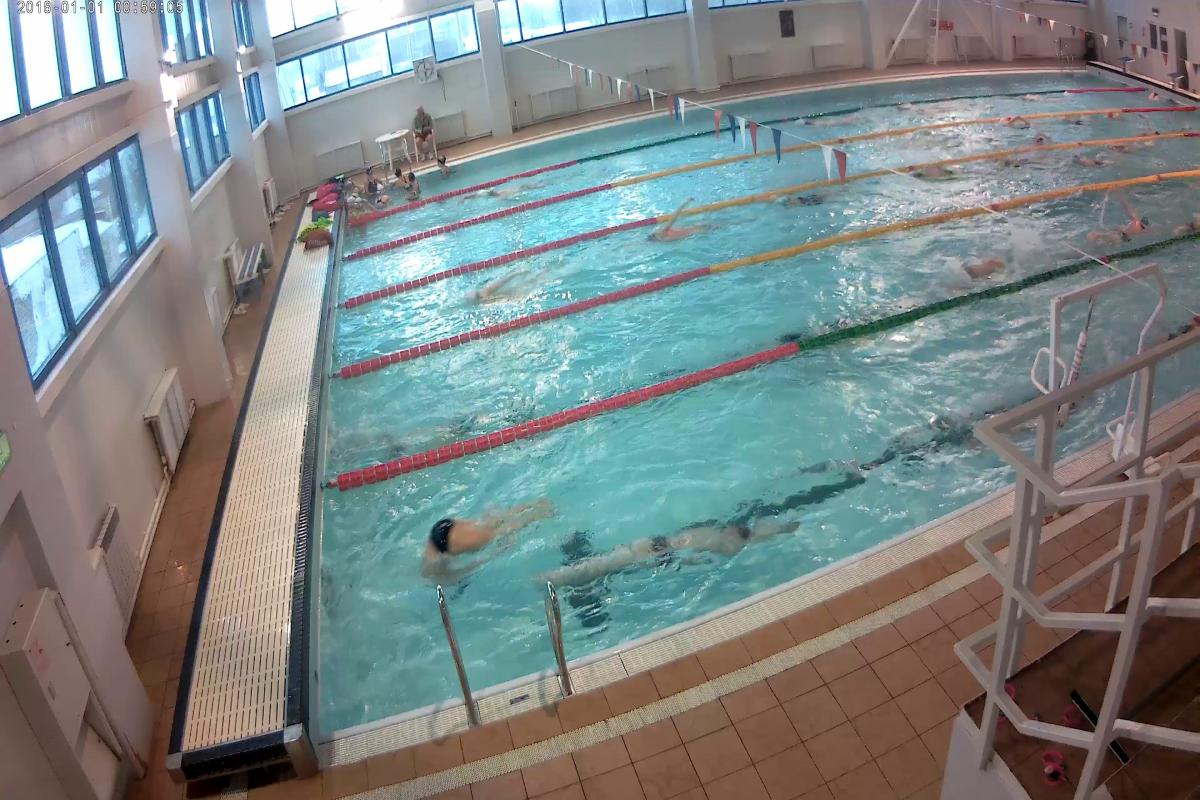swimmer: (583, 500, 802, 556), (424, 504, 549, 582), (633, 218, 753, 249), (451, 274, 578, 303), (1077, 215, 1150, 257), (938, 250, 1000, 288), (767, 192, 858, 216), (917, 162, 975, 193), (988, 155, 1044, 171), (1077, 145, 1115, 167)
